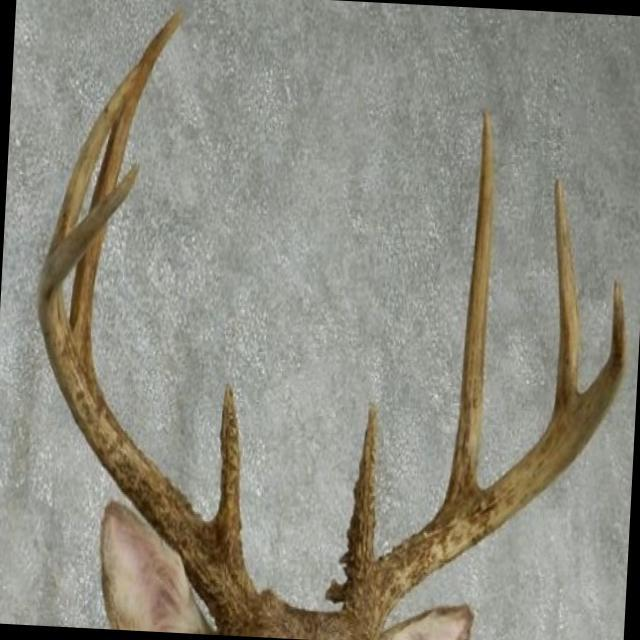L-F: (344, 278, 627, 639)
L-G1: (339, 402, 378, 583)
L-G2: (444, 109, 495, 504)
L-G3: (551, 177, 579, 421)
R-F: (39, 166, 262, 634)
R-G1: (214, 380, 243, 548)
